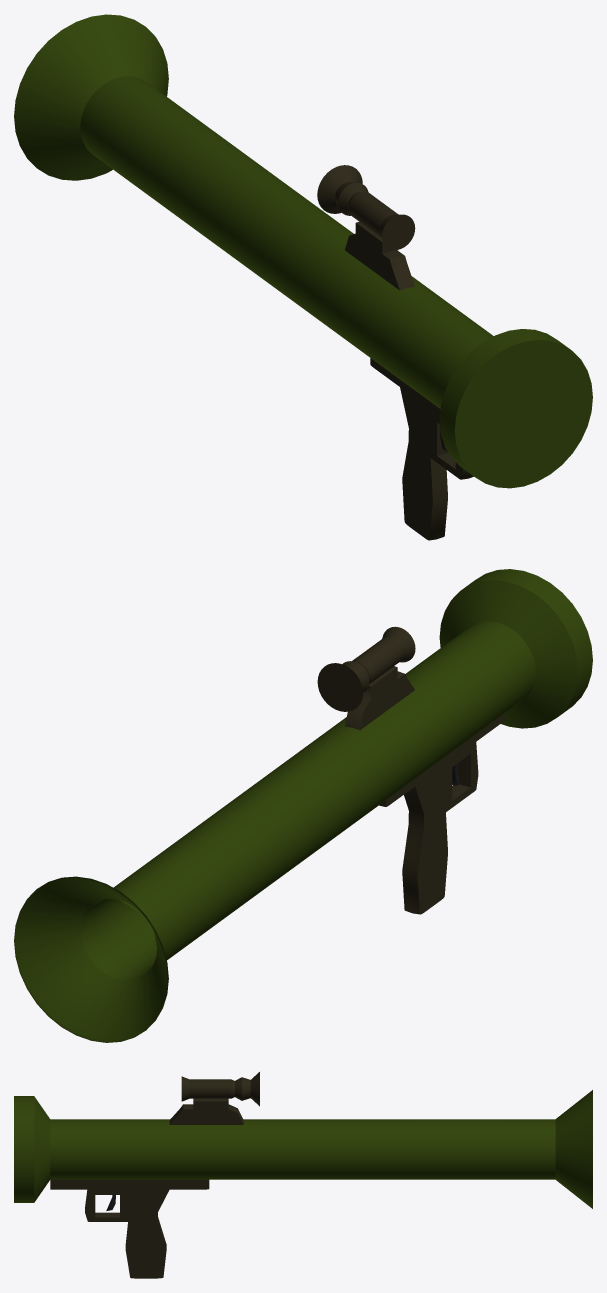
File: RPG.fbx
The picture shows the model from 3 angles, top to bottom: view 1: azimuth 30°, elevation 25°; view 2: azimuth 150°, elevation 25°; view 3: azimuth 270°, elevation 25°; orthographic projection. The views are drawn at different scales.
Visible parts, largest first — view 1: Cylinder; view 2: Cylinder; view 3: Cylinder.
Boxes of the visible parts, bbox=[...] form: Cylinder: bbox=[14, 14, 592, 540]; Cylinder: bbox=[14, 569, 592, 1042]; Cylinder: bbox=[14, 1072, 592, 1278].
Bounding box in the file's own units: 154 × 288 × 742.
